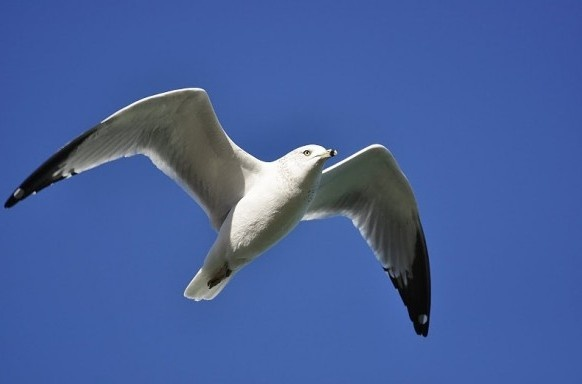bird: (4, 88, 434, 333)
